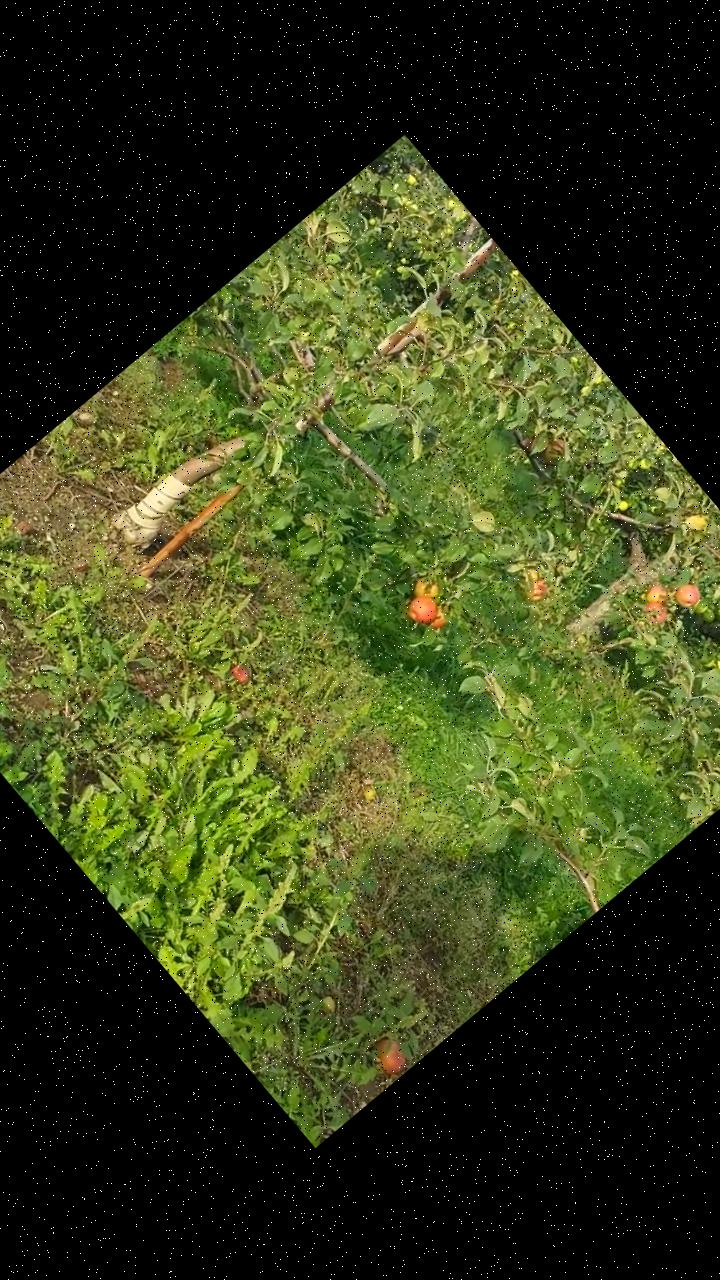Apple: (402, 588, 442, 630), (640, 594, 674, 629), (520, 570, 554, 604), (672, 576, 704, 609), (412, 570, 444, 602), (642, 580, 670, 608), (426, 606, 450, 630)
